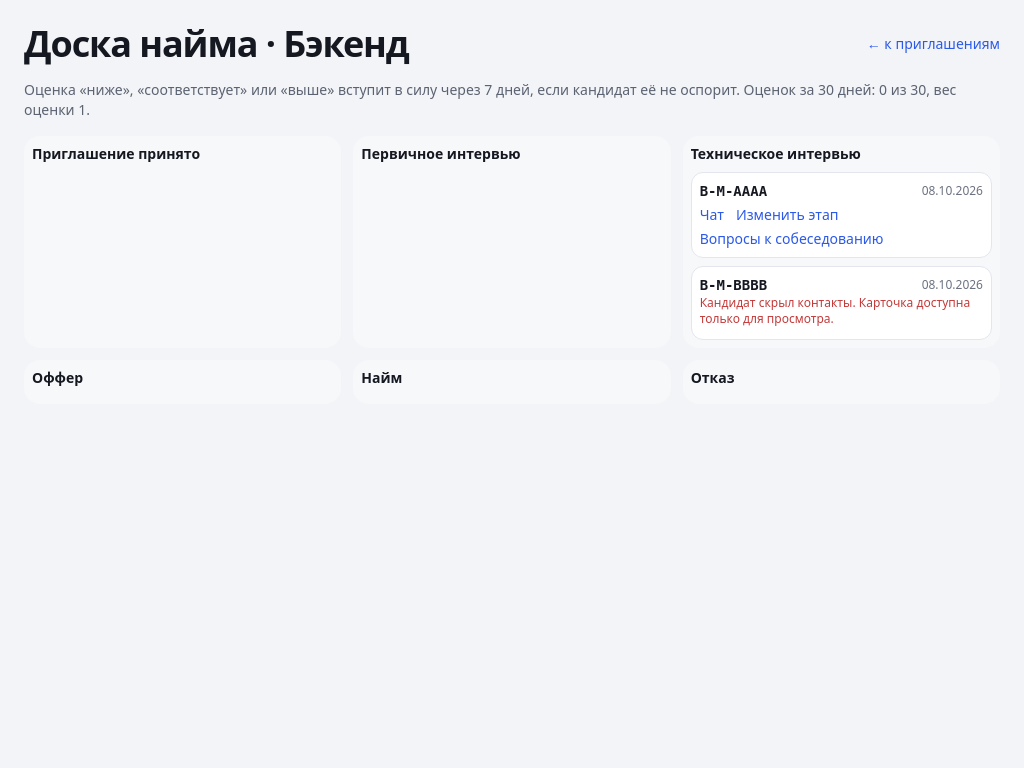
Test: interview helper on the hiring board › shows the questions with topic and reason and how many sets are used
Click the button "Вопросы к собеседованию" at (792, 239), box [700,229,884,249]
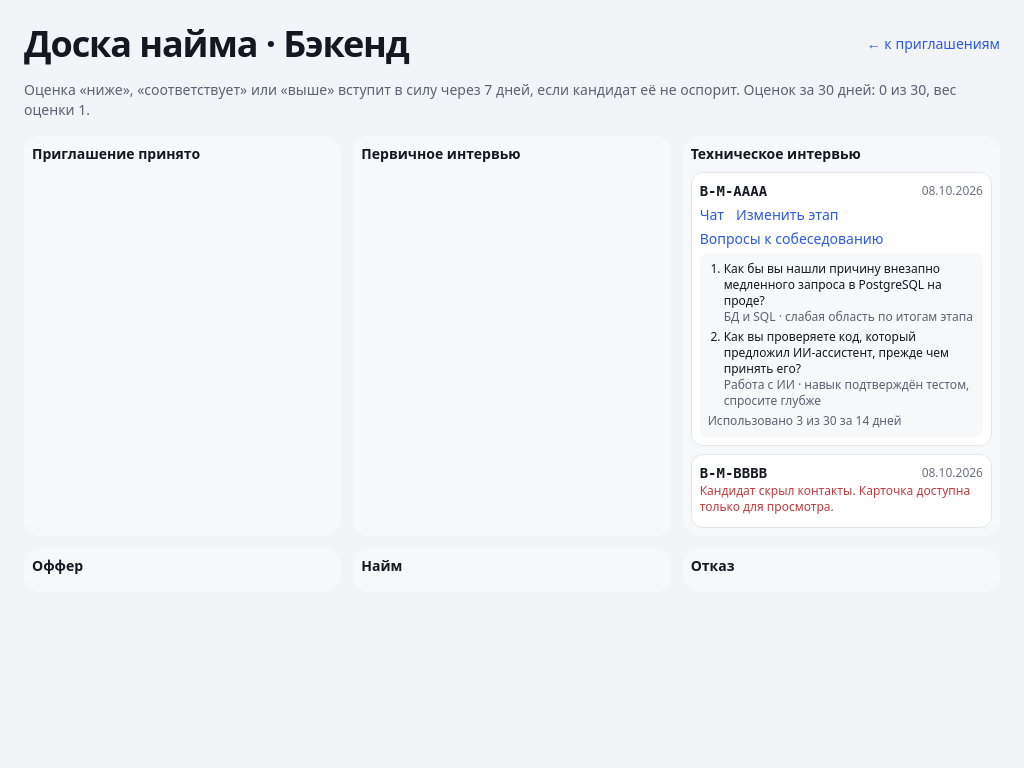
Result: the text "Как бы вы нашли причину внезапно медленного запроса" is shown at [724,260,942,309]
Result: the text "БД и SQL · слабая область по итогам этапа" is shown at [724,309,975,325]
Result: the text "Работа с ИИ · навык подтверждён тестом, спросите глубже" is shown at [724,377,975,409]
